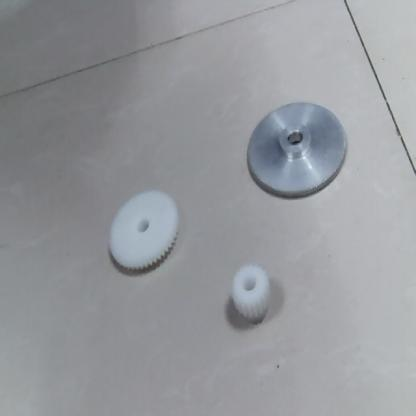FOD: (241, 95, 354, 200), (100, 188, 185, 282), (225, 266, 274, 329)
